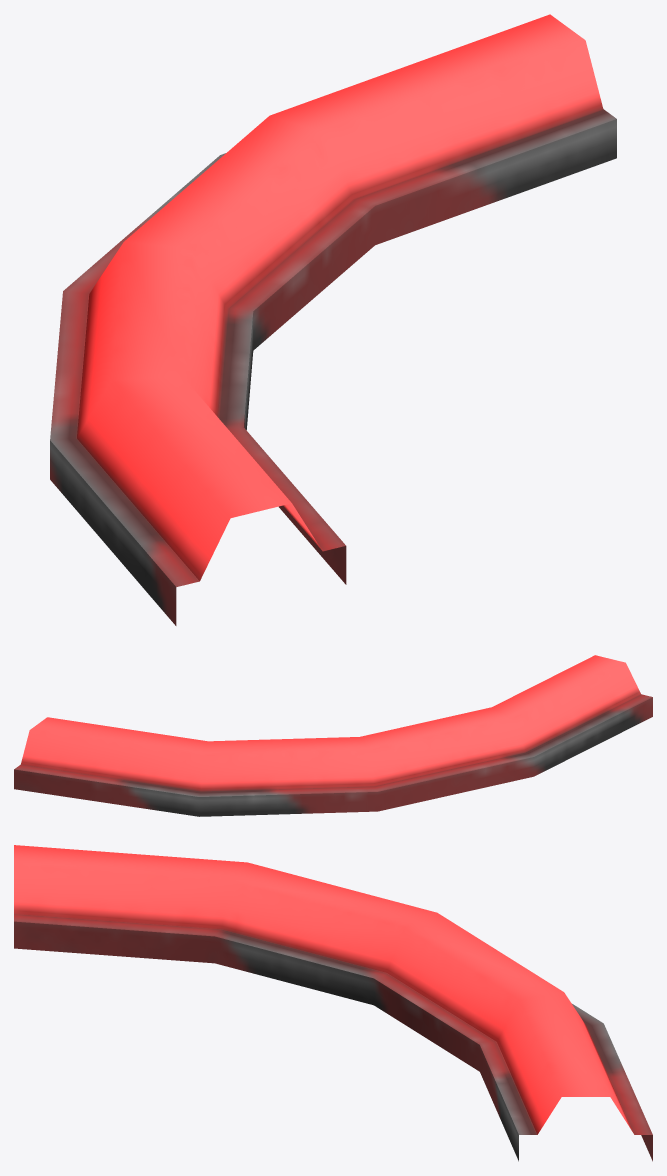
The model's file is Way_S90.fbx.
The picture shows the model from 3 angles, top to bottom: view 1: azimuth 30°, elevation 25°; view 2: azimuth 150°, elevation 25°; view 3: azimuth 270°, elevation 25°; orthographic projection. The views are drawn at different scales.
Parts seen in each view (by area): view 1: Way_S90; view 2: Way_S90; view 3: Way_S90.
Boxes of the visible parts, x1=… form: Way_S90: x1=50, y1=14, x2=616, y2=625; Way_S90: x1=14, y1=655, x2=652, y2=816; Way_S90: x1=14, y1=845, x2=652, y2=1161.
Size of the model in its own units: 1.12 by 0.1253 by 1.12.
